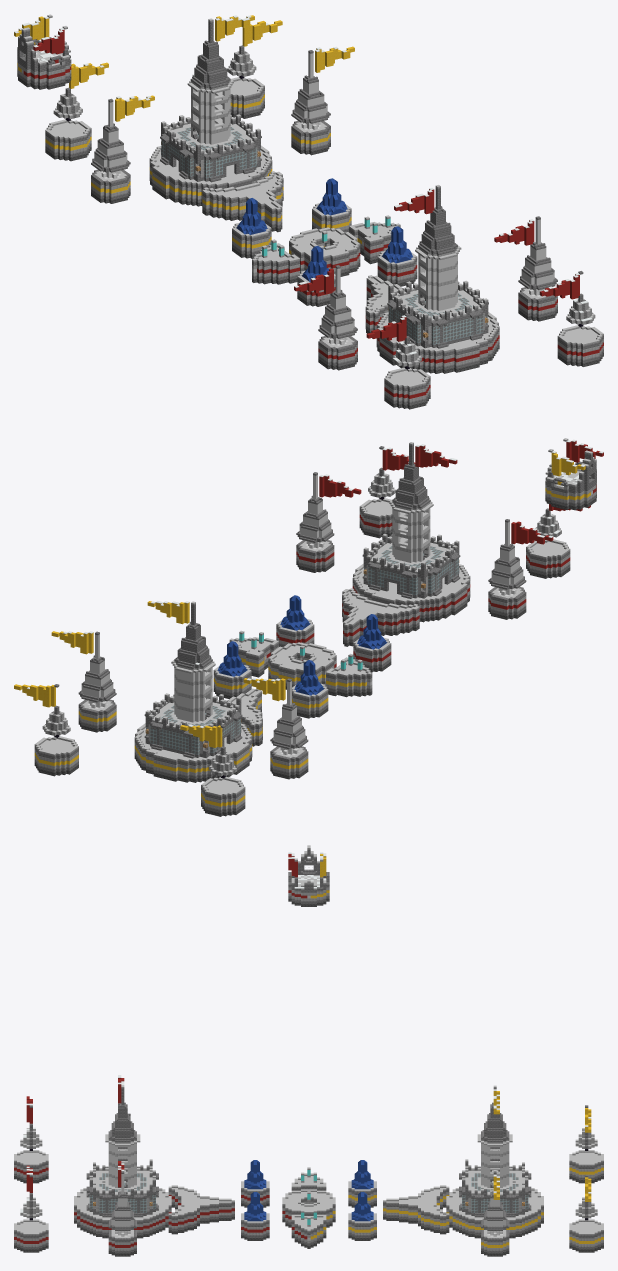
File: minecraft.obj
The picture shows the model from 3 angles, top to bottom: view 1: azimuth 30°, elevation 25°; view 2: azimuth 150°, elevation 25°; view 3: azimuth 270°, elevation 25°; orthographic projection. The views are drawn at different scales.
Bounding box in the file's own units: 134 × 88.5 × 187.
